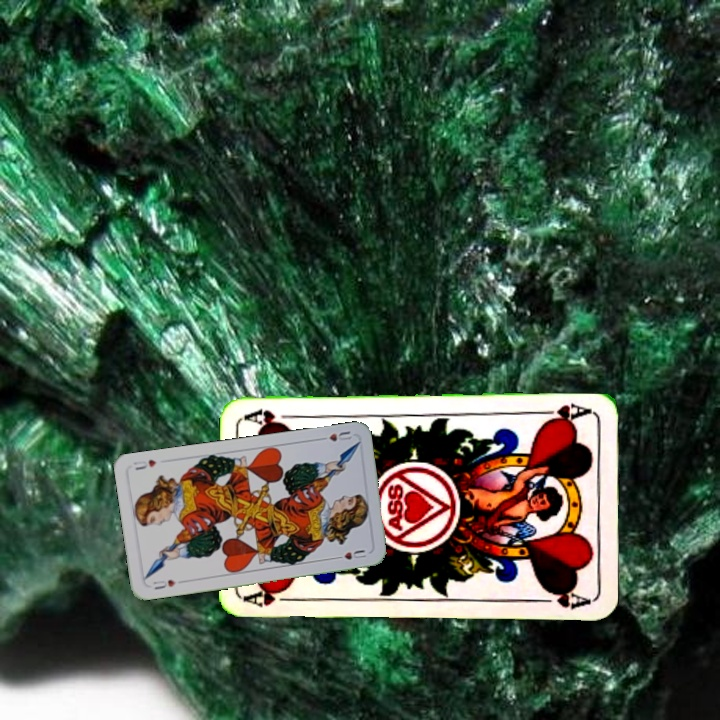HA: (534, 400, 593, 427), (243, 583, 302, 610)
HU: (315, 427, 354, 444), (149, 576, 178, 592)
